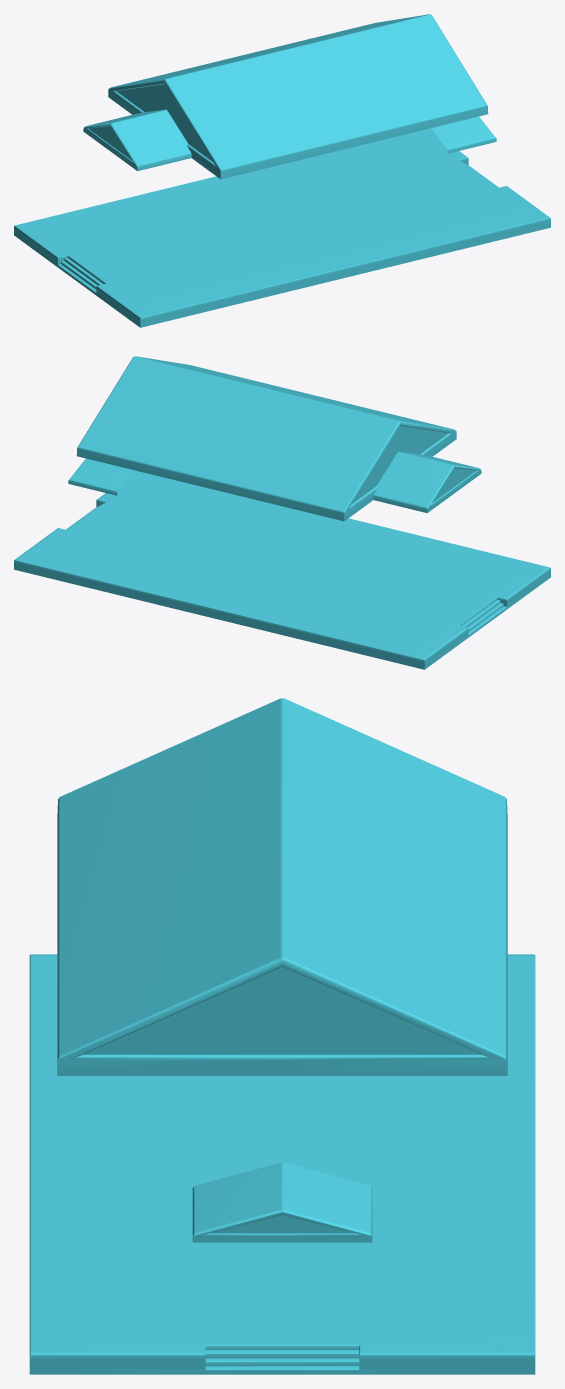
File: LibraryRoofAndFloor.fbx
The picture shows the model from 3 angles, top to bottom: view 1: azimuth 30°, elevation 25°; view 2: azimuth 150°, elevation 25°; view 3: azimuth 270°, elevation 25°; orthographic projection. The views are drawn at different scales.
Parts seen in each view (by area): view 1: LibraryStand, MainRoof, RoofExtension, RoofBottomFloor; view 2: LibraryStand, MainRoof, RoofExtension, RoofBottomFloor; view 3: MainRoof, LibraryStand, RoofBottomFloor.
Boxes of the visible parts, left/top/right/bottom form: LibraryStand: left=14, top=131, right=550, bottom=327; MainRoof: left=108, top=14, right=488, bottom=179; RoofExtension: left=83, top=109, right=191, bottom=171; RoofBottomFloor: left=417, top=116, right=496, bottom=153; LibraryStand: left=14, top=473, right=550, bottom=669; MainRoof: left=76, top=356, right=456, bottom=521; RoofExtension: left=373, top=451, right=481, bottom=513; RoofBottomFloor: left=68, top=458, right=147, bottom=495; MainRoof: left=57, top=698, right=507, bottom=1075; LibraryStand: left=29, top=954, right=535, bottom=1374; RoofBottomFloor: left=192, top=1162, right=372, bottom=1242.
Bounding box in the file's own units: 49.87 × 20.99 × 26.58.
